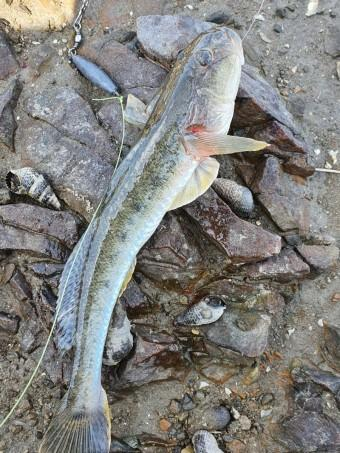fish: (43, 26, 267, 452)
